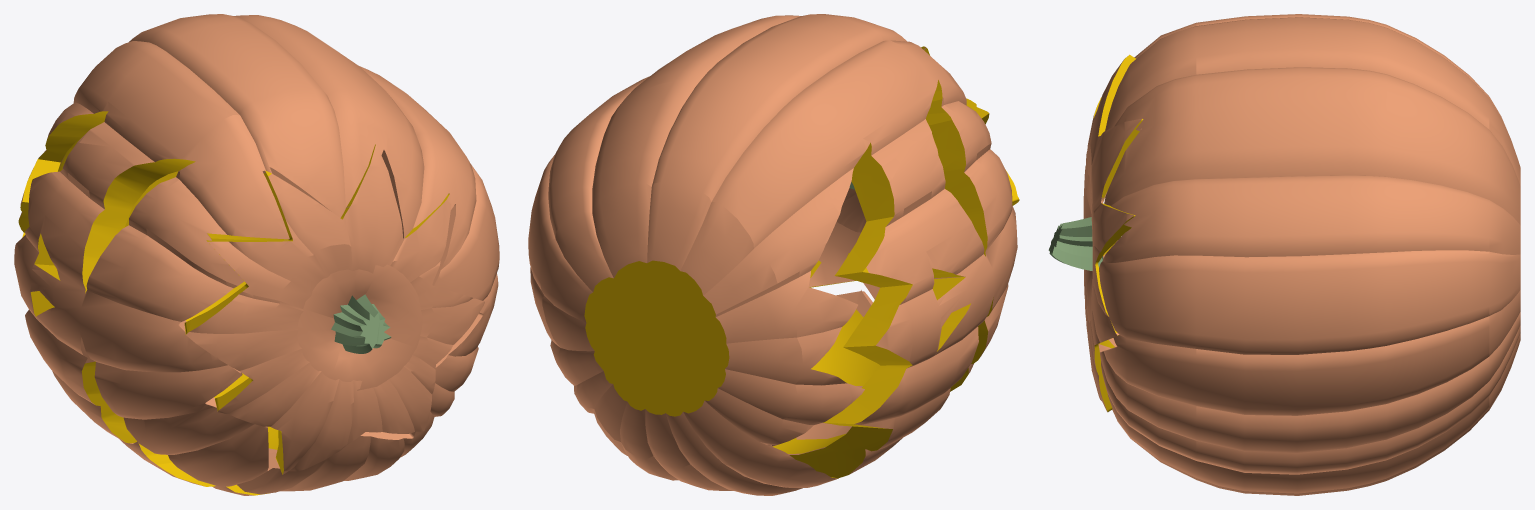
The model's file is pumpkin.fbx.
3 views of the same model, side by side, from view 1: azimuth 30°, elevation 25°; view 2: azimuth 150°, elevation 25°; view 3: azimuth 270°, elevation 25° (orthographic).
Visible parts, largest first — view 1: PumpkinWit_Pumpki, PumpkinLid_Pumpki, PumpkinWit_Pumpki.002, PumpkinLid_Pumpki.001, Spline_Obj_Spline, PumpkinWit_PumpkinWit, Spline_Obj_Spline_Obj; view 2: PumpkinWit_Pumpki, PumpkinWit_Pumpki.002, PumpkinWit_Pumpki.001, PumpkinWit_PumpkinWit, PumpkinLid_Pumpki; view 3: PumpkinWit_Pumpki, PumpkinLid_Pumpki, PumpkinLid_Pumpki.001, Spline_Obj_Spline.
Part boxes in pixels (box(x1,y1,x2,y2)): PumpkinWit_Pumpki: box(14, 14, 499, 495); PumpkinLid_Pumpki: box(186, 145, 484, 474); PumpkinWit_Pumpki.002: box(18, 111, 269, 495); PumpkinLid_Pumpki.001: box(184, 144, 449, 474); Spline_Obj_Spline: box(331, 294, 391, 353); PumpkinWit_PumpkinWit: box(58, 137, 288, 449); Spline_Obj_Spline_Obj: box(360, 312, 390, 348); PumpkinWit_Pumpki: box(528, 14, 1017, 495); PumpkinWit_Pumpki.002: box(598, 80, 993, 478); PumpkinWit_Pumpki.001: box(584, 260, 729, 416); PumpkinWit_PumpkinWit: box(773, 309, 880, 453); PumpkinLid_Pumpki: box(808, 47, 926, 299); PumpkinWit_Pumpki: box(1099, 14, 1520, 495); PumpkinLid_Pumpki: box(1083, 60, 1141, 411); PumpkinLid_Pumpki.001: box(1093, 54, 1143, 411); Spline_Obj_Spline: box(1049, 217, 1102, 270).
Bounding box in the file's own units: 5.06 × 5.16 × 5.15.
